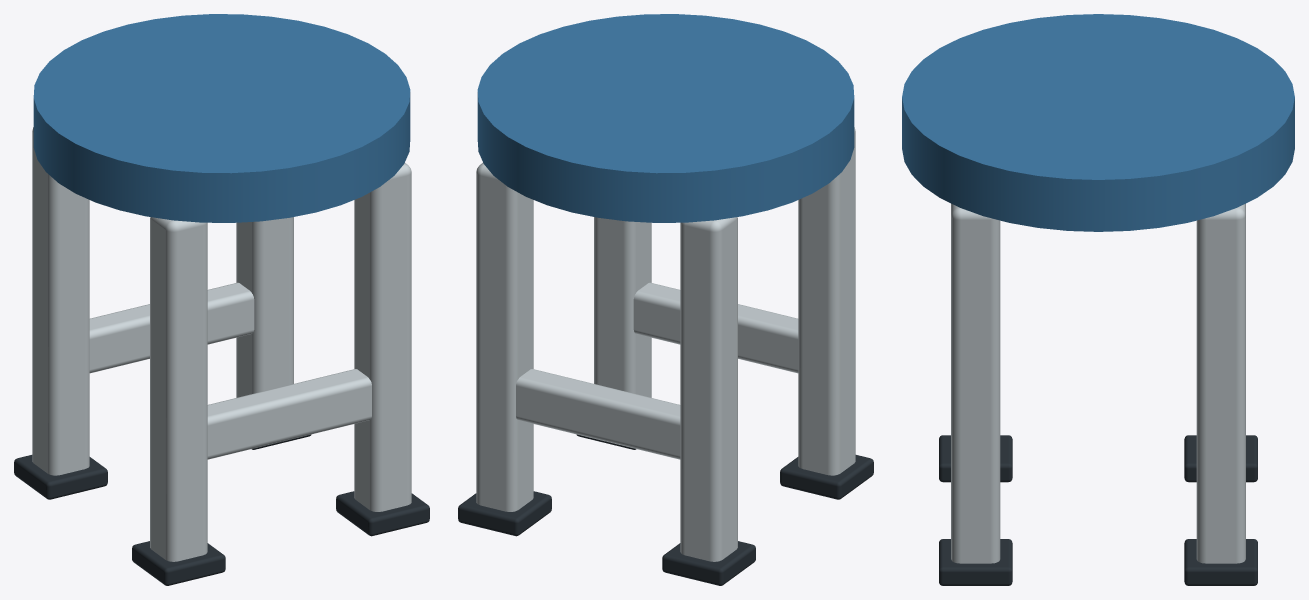
Rendered from squash-club-and-racket-workshop-coach-stool-36c51a04__29784.glb.
3 renders of one model, left to right at view 1: azimuth 30°, elevation 25°; view 2: azimuth 150°, elevation 25°; view 3: azimuth 270°, elevation 25°, orthographic. The views are drawn at different scales.
Parts seen in each view (by area): view 1: coach-stool; view 2: coach-stool; view 3: coach-stool.
Part boxes in pixels (x1,y1,x2,y2): coach-stool: (14, 14, 429, 585); coach-stool: (458, 14, 873, 585); coach-stool: (902, 14, 1294, 585).
Size of the model in its own units: 0.48 by 0.57 by 0.48.
